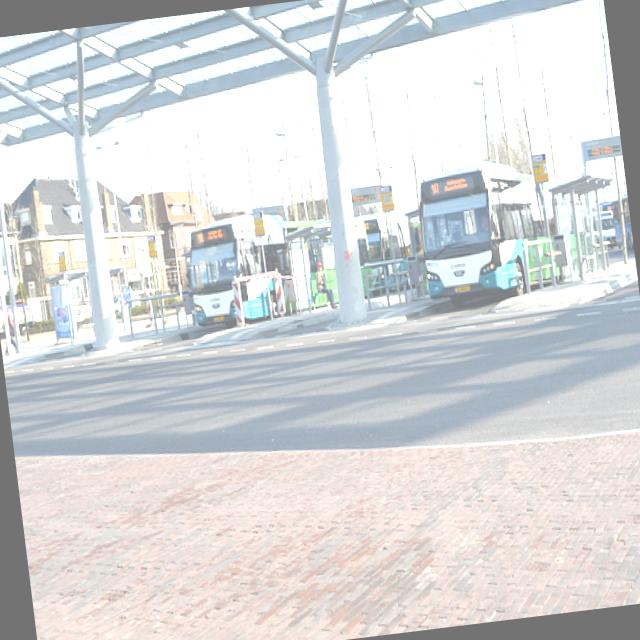Vehicle: (413, 150, 584, 312), (182, 203, 336, 325), (354, 206, 414, 264), (608, 189, 634, 249), (0, 307, 3, 326)
